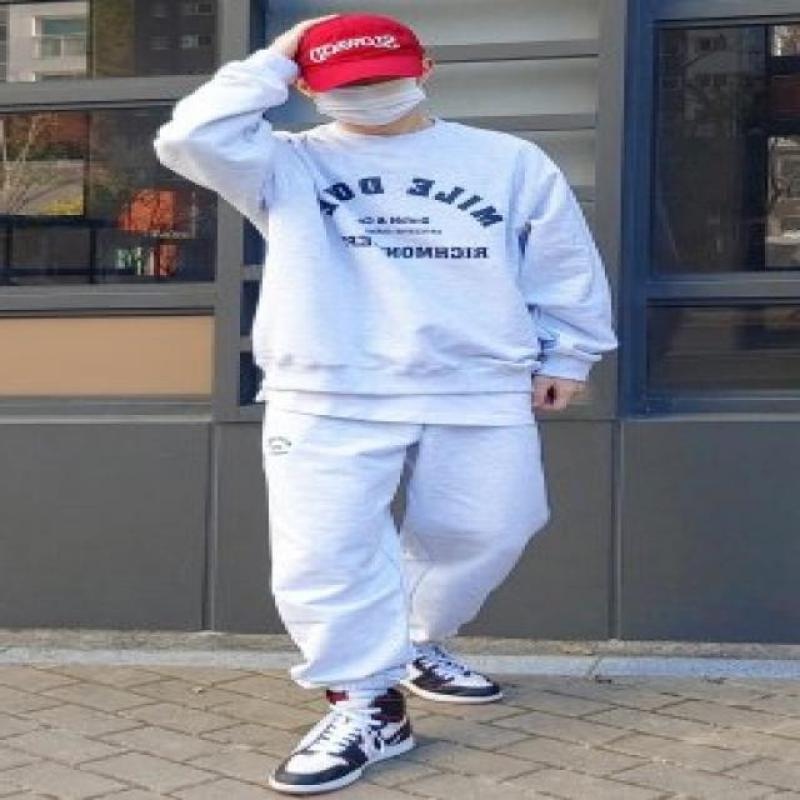sweater: (152, 47, 620, 404)
trousers: (257, 404, 552, 695)
